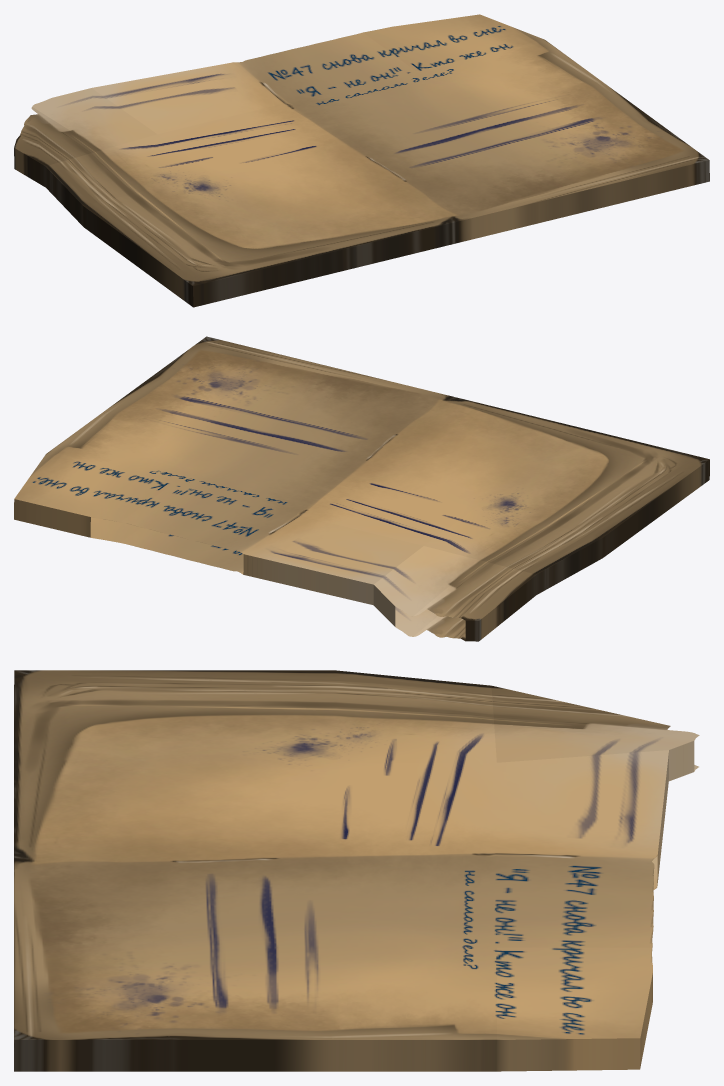
Rendered from nurse's_journal_on_the_first_level.fbx.
The picture shows the model from 3 angles, top to bottom: view 1: azimuth 30°, elevation 25°; view 2: azimuth 150°, elevation 25°; view 3: azimuth 270°, elevation 25°; orthographic projection. The views are drawn at different scales.
Visible parts, largest first — view 1: nurse's_journal_on_the_first_level; view 2: nurse's_journal_on_the_first_level; view 3: nurse's_journal_on_the_first_level.
Part boxes in pixels (x1=…): nurse's_journal_on_the_first_level: x1=14, y1=14, x2=709, y2=307; nurse's_journal_on_the_first_level: x1=14, y1=336, x2=709, y2=641; nurse's_journal_on_the_first_level: x1=14, y1=670, x2=699, y2=1071.
Size of the model in its own units: 47.56 by 4.15 by 37.83.
